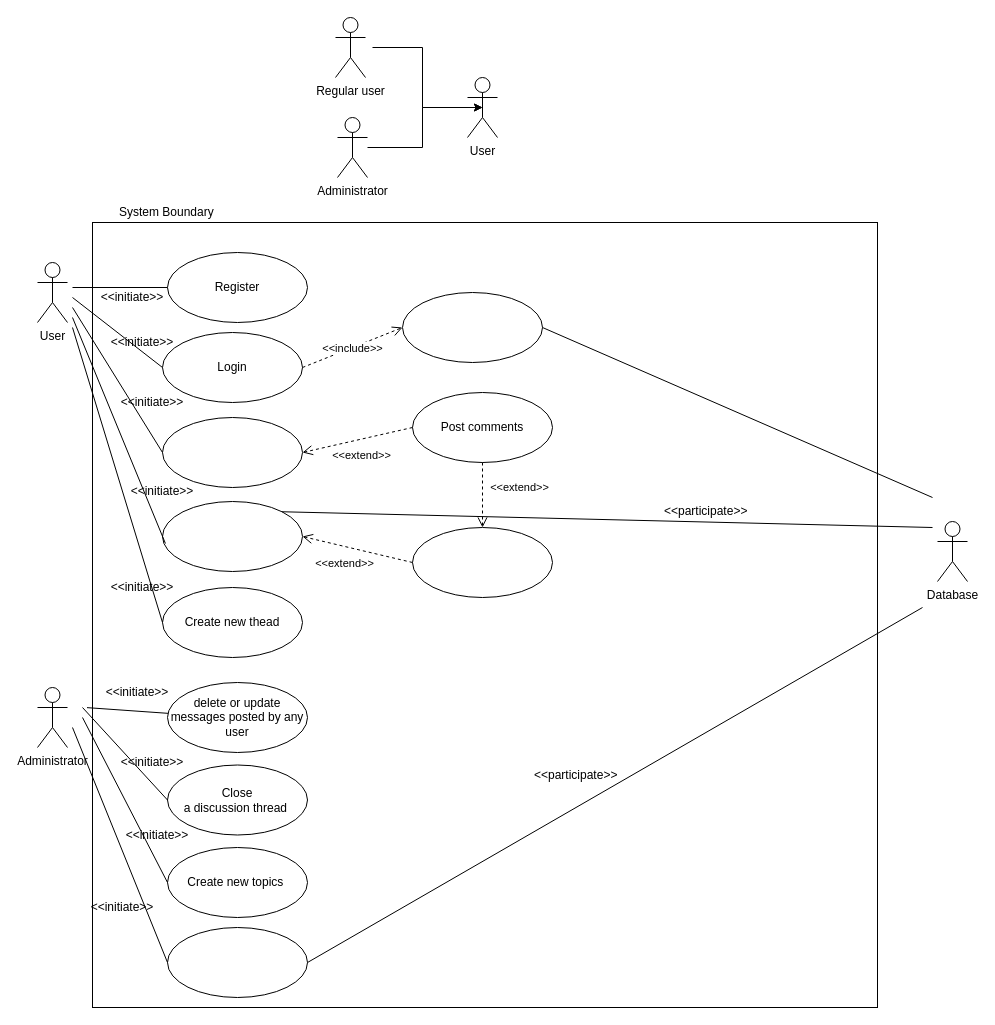
The diagram is 995 pixels wide and 1025 high, and some of its shapes have lost their labels. Each missing label, with the centre of its shape:
Confirm details: point (472, 327)
Keyword search: point (232, 536)
View current discussion threads: point (232, 452)
View searched discussion threads: point (482, 562)
View statistics: point (237, 962)
